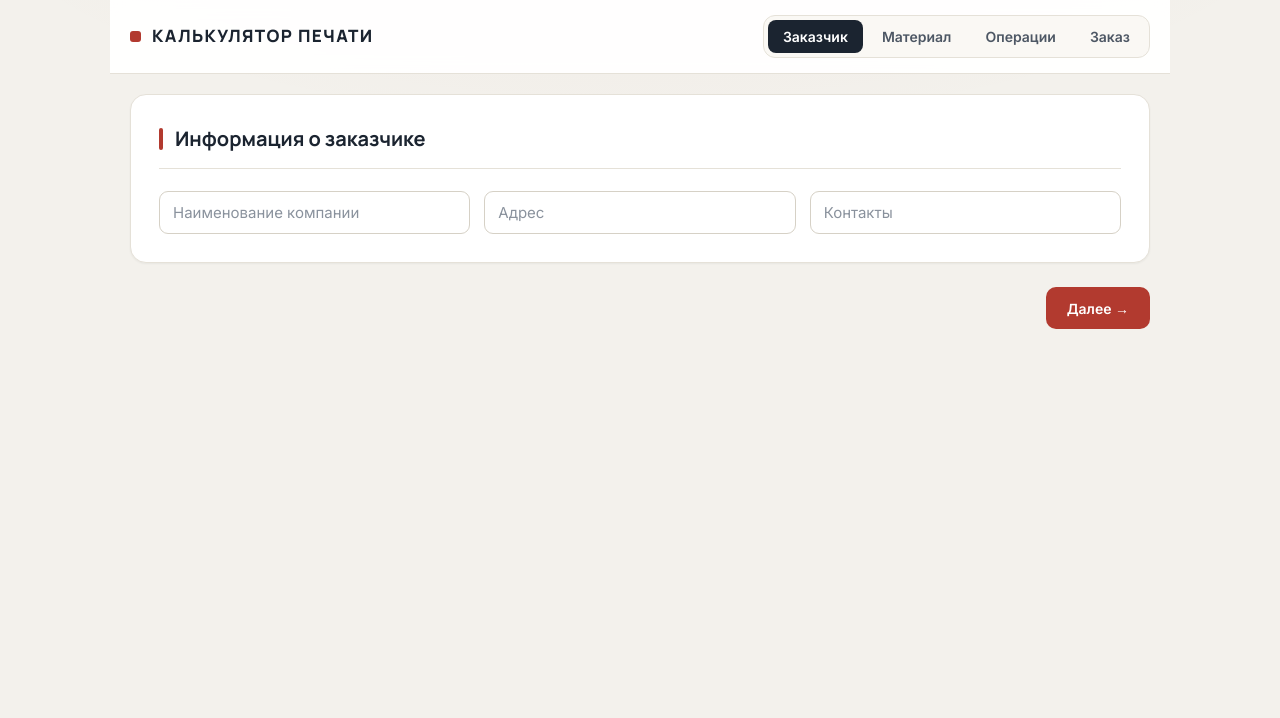
Scenario: App › переходит на следующий шаг по кнопке «Далее»
The width and height of the screenshot is (1280, 718).
Click the button "Далее →" at (1098, 308), box x1=1046 y1=287 x2=1150 y2=329
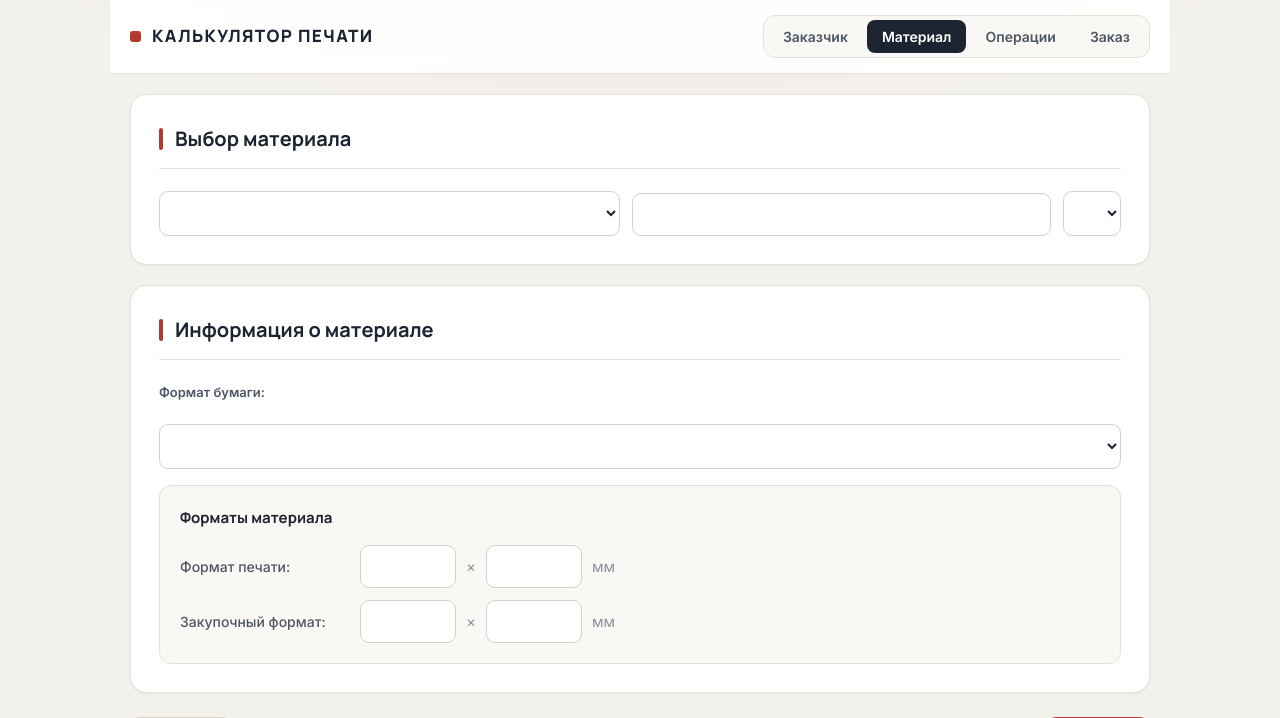
Check: the heading "Выбор материала" is shown, box x1=159 y1=123 x2=1121 y2=169
